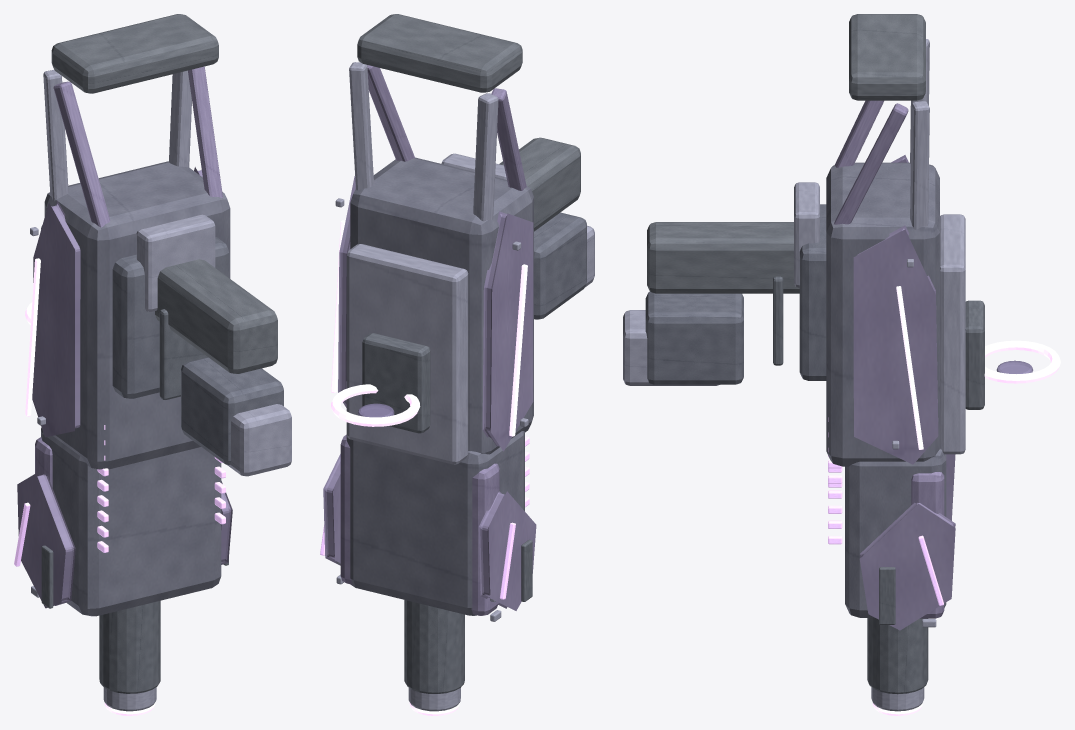
The model's file is aether-s9-glacier.glb.
3 renders of one model, left to right at view 1: azimuth 30°, elevation 25°; view 2: azimuth 150°, elevation 25°; view 3: azimuth 270°, elevation 25°, orthographic.
Visible parts, largest first — view 1: S9 / compact angular forebody, 01 / central monocoque, 06 / sculpted receiver cheek-1, 04 / pistol grip, S9 / folding butt, S9 / grip lower cell, 03 / matte lower receiver, S9 / recessed emitter housing, S9 / faceted cowl -1, 05 / rear handle ferrule, S9 / short magazine, S9 / floating rear strut -1 (+9 smaller); view 2: S9 / compact angular forebody, 02 / receiver crown, 01 / central monocoque, 06 / sculpted receiver cheek-1, S9 / folding butt, S9 / recessed emitter housing, S9 / optic base, S9 / grip lower cell, S9 / faceted cowl -1, 04 / pistol grip, S9 / forward ceramic wings, S9 / skeleton stock top -1 (+13 smaller); view 3: 06 / sculpted receiver cheek1, 01 / central monocoque, 04 / pistol grip, S9 / grip lower cell, S9 / faceted cowl 1, S9 / compact angular forebody, S9 / folding butt, 02 / receiver crown, S9 / recessed emitter housing, 03 / matte lower receiver, S9 / skeleton stock top 1, S9 / optic base (+10 smaller).
Boxes of the visible parts, left/top/right/bottom form: S9 / compact angular forebody: left=41, top=427, right=221, bottom=616; 01 / central monocoque: left=44, top=161, right=230, bottom=469; 06 / sculpted receiver cheek-1: left=32, top=200, right=80, bottom=437; 04 / pistol grip: left=155, top=259, right=277, bottom=373; S9 / folding butt: left=51, top=14, right=218, bottom=93; S9 / grip lower cell: left=181, top=357, right=283, bottom=464; 03 / matte lower receiver: left=112, top=237, right=229, bottom=398; S9 / recessed emitter housing: left=99, top=600, right=160, bottom=693; S9 / faceted cowl -1: left=17, top=473, right=75, bottom=608; 05 / rear handle ferrule: left=136, top=214, right=215, bottom=311; S9 / short magazine: left=227, top=404, right=291, bottom=476; S9 / floating rear strut -1: left=53, top=81, right=110, bottom=227; S9 / compact angular forebody: left=346, top=431, right=524, bottom=615; 02 / receiver crown: left=346, top=244, right=468, bottom=464; 01 / central monocoque: left=350, top=157, right=533, bottom=454; 06 / sculpted receiver cheek-1: left=482, top=211, right=533, bottom=451; S9 / folding butt: left=357, top=14, right=522, bottom=92; S9 / recessed emitter housing: left=404, top=600, right=464, bottom=693; S9 / optic base: left=362, top=333, right=430, bottom=433; S9 / grip lower cell: left=534, top=212, right=586, bottom=319; S9 / faceted cowl -1: left=478, top=491, right=536, bottom=610; 04 / pistol grip: left=499, top=137, right=580, bottom=231; S9 / forward ceramic wings: left=340, top=434, right=499, bottom=615; S9 / skeleton stock top -1: left=473, top=93, right=498, bottom=221; 06 / sculpted receiver cheek1: left=853, top=225, right=938, bottom=464; 01 / central monocoque: left=826, top=162, right=939, bottom=466; 04 / pistol grip: left=647, top=222, right=799, bottom=293; S9 / grip lower cell: left=645, top=291, right=743, bottom=384; S9 / faceted cowl 1: left=859, top=502, right=955, bottom=630; S9 / compact angular forebody: left=845, top=449, right=946, bottom=617; S9 / folding butt: left=849, top=14, right=925, bottom=100; 02 / receiver crown: left=940, top=214, right=965, bottom=454; S9 / recessed emitter housing: left=867, top=618, right=928, bottom=694; 03 / matte lower receiver: left=799, top=204, right=826, bottom=380; S9 / skeleton stock top 1: left=910, top=101, right=929, bottom=229; S9 / optic base: left=965, top=300, right=984, bottom=409.
Size of the model in its own units: 0.5125 by 1.75 by 1.05.
9 materials, 9 textured.
